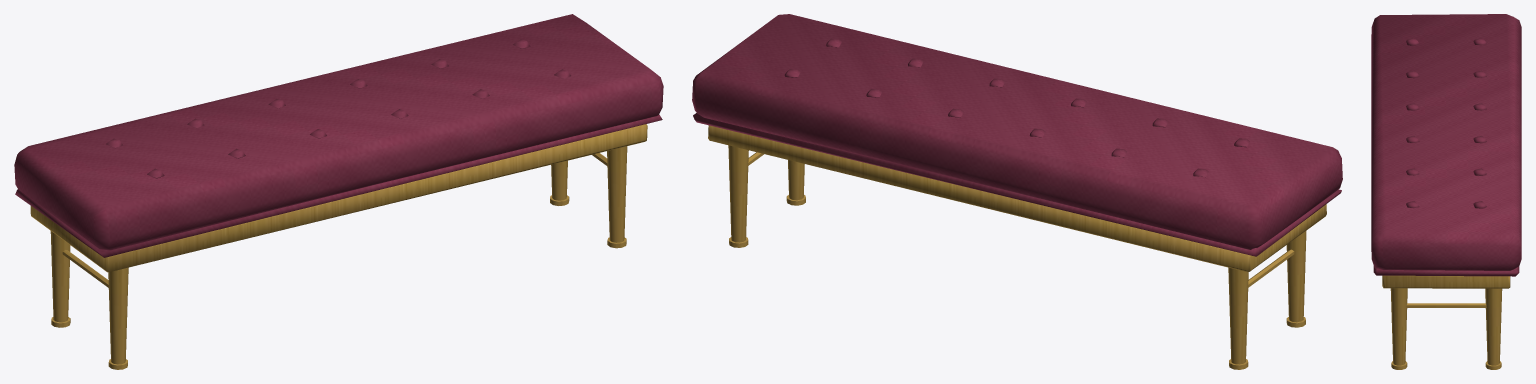
Rendered from banco-estofado-16-leve.glb.
3 views of the same model, side by side, from view 1: azimuth 30°, elevation 25°; view 2: azimuth 150°, elevation 25°; view 3: azimuth 270°, elevation 25° (orthographic). The views are drawn at different scales.
Visible parts, largest first — view 1: almofada, quadro, vivo, perna, perna.002, perna.001, perna.003; view 2: almofada, quadro, vivo, perna.003, perna.001, perna, perna.002; view 3: almofada, quadro, perna.002, perna.003, vivo, longarina.001.
Part boxes in pixels (box(x1,y1,x2,y2)): almofada: box(14, 14, 663, 250); quadro: box(30, 124, 647, 272); vivo: box(15, 114, 662, 257); perna: box(108, 267, 128, 364); perna.002: box(607, 146, 627, 242); perna.001: box(50, 231, 70, 322); perna.003: box(551, 160, 567, 200); almofada: box(692, 14, 1342, 249); quadro: box(708, 125, 1326, 272); vivo: box(693, 113, 1341, 256); perna.003: box(728, 145, 748, 242); perna.001: box(1228, 267, 1248, 364); perna: box(1286, 231, 1306, 322); perna.002: box(788, 160, 804, 200); almofada: box(1371, 14, 1521, 270); quadro: box(1382, 275, 1510, 288); perna.002: box(1390, 288, 1407, 365); perna.003: box(1485, 288, 1502, 365); vivo: box(1373, 265, 1519, 276); longarina.001: box(1406, 303, 1486, 307).
Size of the model in its own units: 1.59 by 0.4775 by 0.4458.
Materials: 2 (2 with a texture image).
